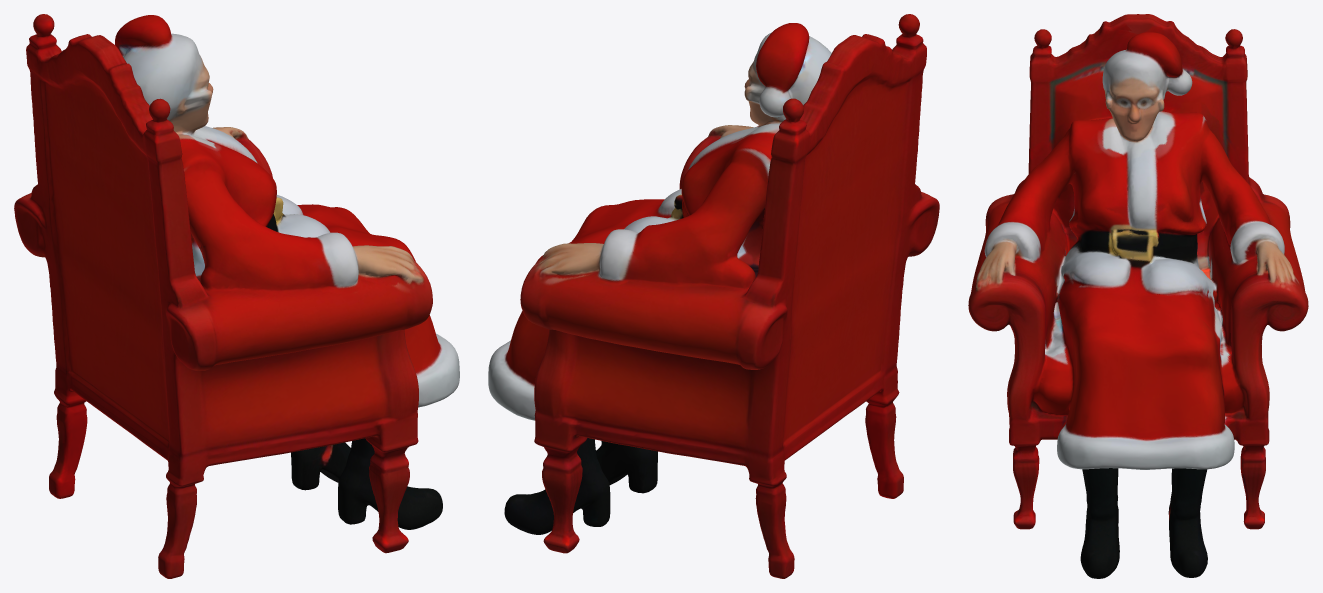
Rendered from mrs_claus.glb.
The picture shows the model from 3 angles, left to right: view 1: azimuth 30°, elevation 25°; view 2: azimuth 150°, elevation 25°; view 3: azimuth 270°, elevation 25°; orthographic projection. The views are drawn at different scales.
Visible parts, largest first — view 1: tripo_node_81480df9-1b58-4f0f-89a5-f305db66907a; view 2: tripo_node_81480df9-1b58-4f0f-89a5-f305db66907a; view 3: tripo_node_81480df9-1b58-4f0f-89a5-f305db66907a.
Boxes of the visible parts, x1,y1,x2,y2 form: tripo_node_81480df9-1b58-4f0f-89a5-f305db66907a: [14, 14, 459, 578]; tripo_node_81480df9-1b58-4f0f-89a5-f305db66907a: [488, 14, 939, 578]; tripo_node_81480df9-1b58-4f0f-89a5-f305db66907a: [968, 14, 1308, 578].
Bounding box in the file's own units: 0.6303 × 0.9486 × 0.6557.
Materials: 1 (1 with a texture image).
